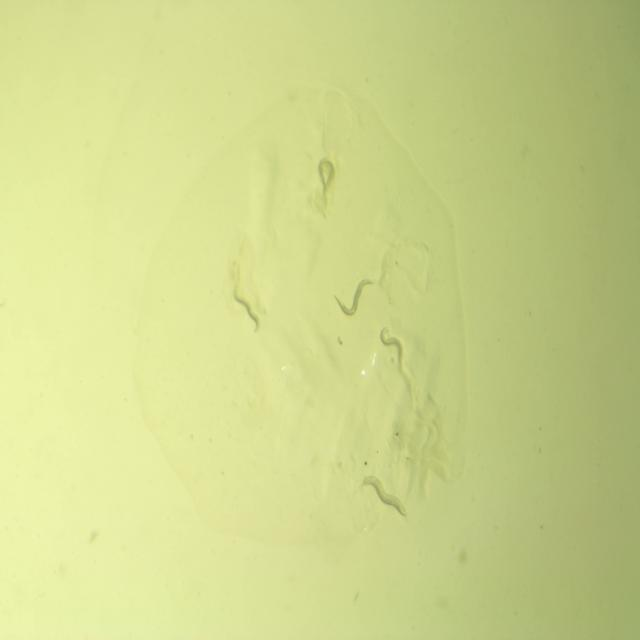worm: (358, 470, 410, 519), (361, 474, 412, 522), (329, 274, 378, 322), (232, 283, 269, 337), (374, 318, 406, 373), (312, 152, 338, 210)
